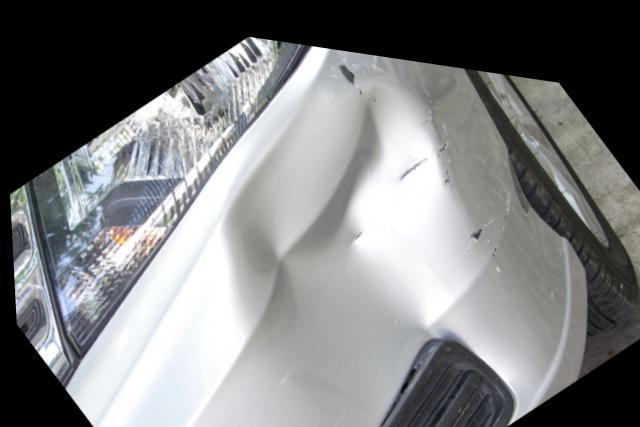dent: (220, 73, 463, 416)
scratch: (325, 38, 435, 114), (461, 172, 518, 245)
